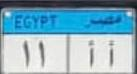1: (37, 38, 49, 71), (20, 37, 31, 67)
أ: (85, 38, 99, 67), (103, 39, 117, 68)
